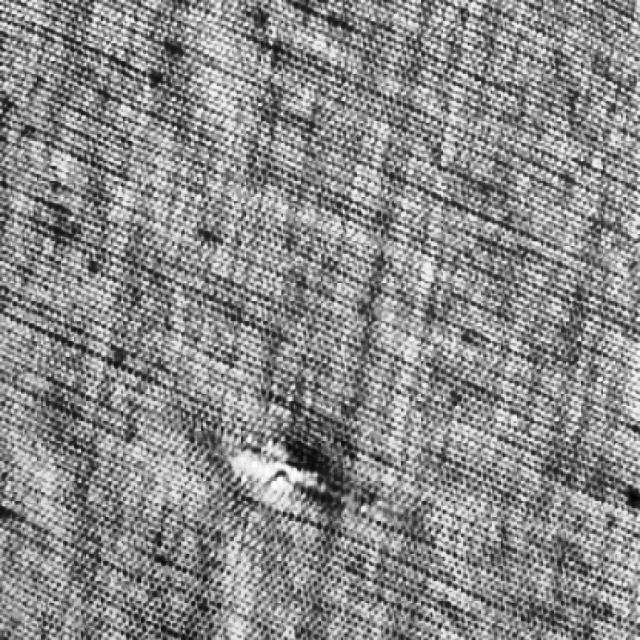thread_error: (203, 403, 366, 534)
